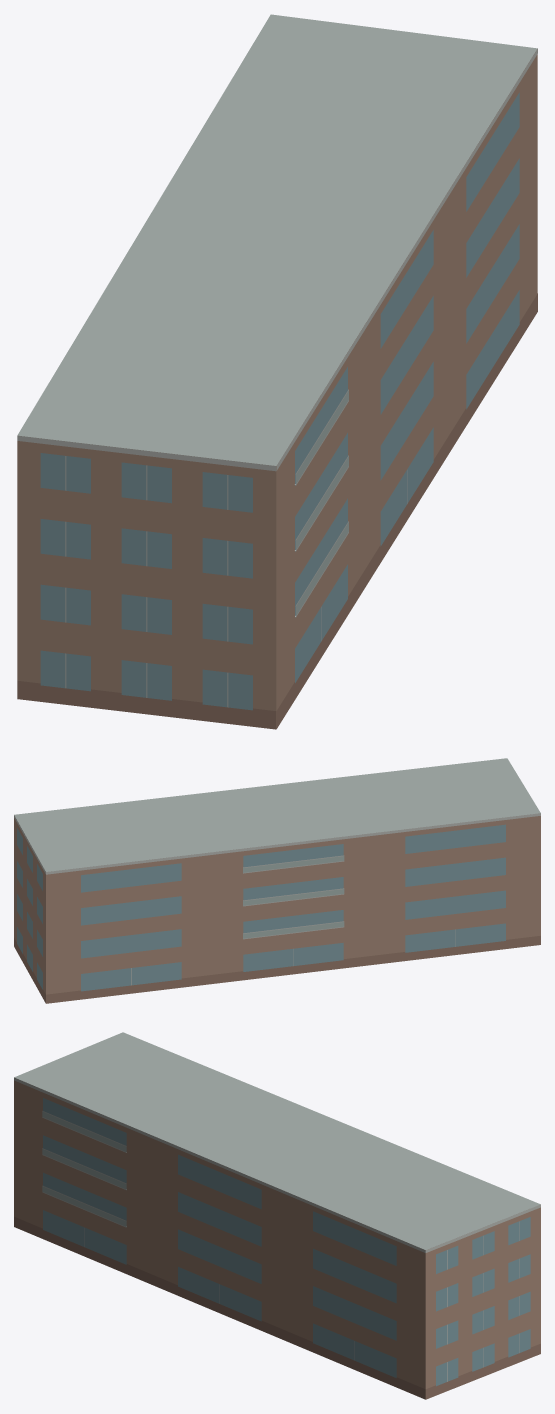
The model's file is survey-upis-32758172.glb.
3 views of the same model, one above another, from view 1: azimuth 30°, elevation 25°; view 2: azimuth 150°, elevation 25°; view 3: azimuth 270°, elevation 25° (orthographic). The views are drawn at different scales.
Visible parts, largest first — view 1: survey-upis-32758172.tmp; view 2: survey-upis-32758172.tmp; view 3: survey-upis-32758172.tmp.
Boxes of the visible parts, x1,y1,x2,y2 form: survey-upis-32758172.tmp: [17, 14, 537, 729]; survey-upis-32758172.tmp: [14, 758, 540, 1003]; survey-upis-32758172.tmp: [14, 1032, 540, 1399].
Bounding box in the file's own units: 38.15 × 12.2 × 38.97.
